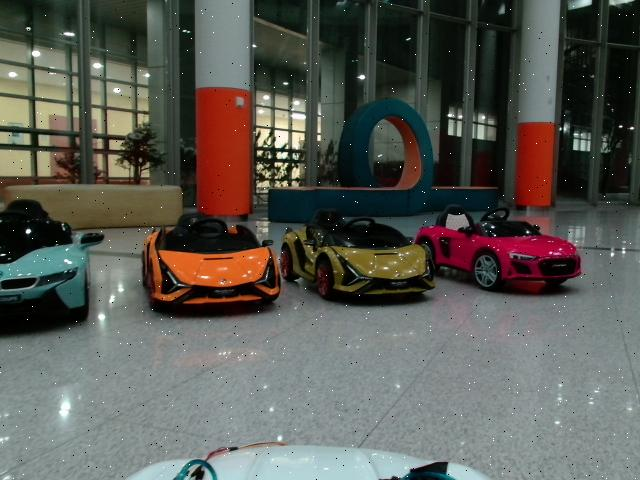car: (413, 203, 583, 289), (279, 208, 435, 299), (141, 213, 281, 311), (1, 198, 104, 321)
